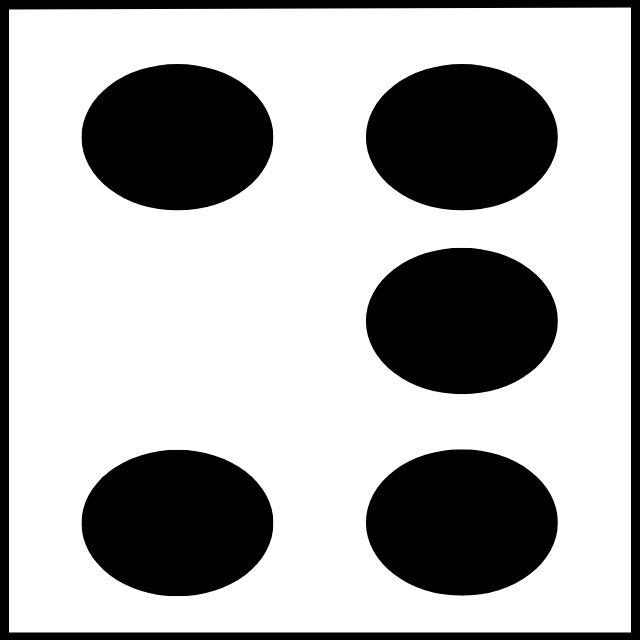one_cell_alphabet_yaman: (78, 63, 560, 596)
